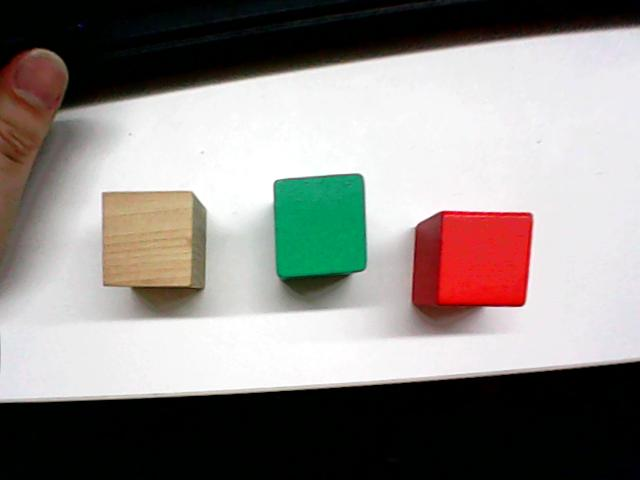green_box: (269, 169, 370, 282)
raw_box: (98, 186, 209, 292)
red_box: (409, 205, 536, 313)
